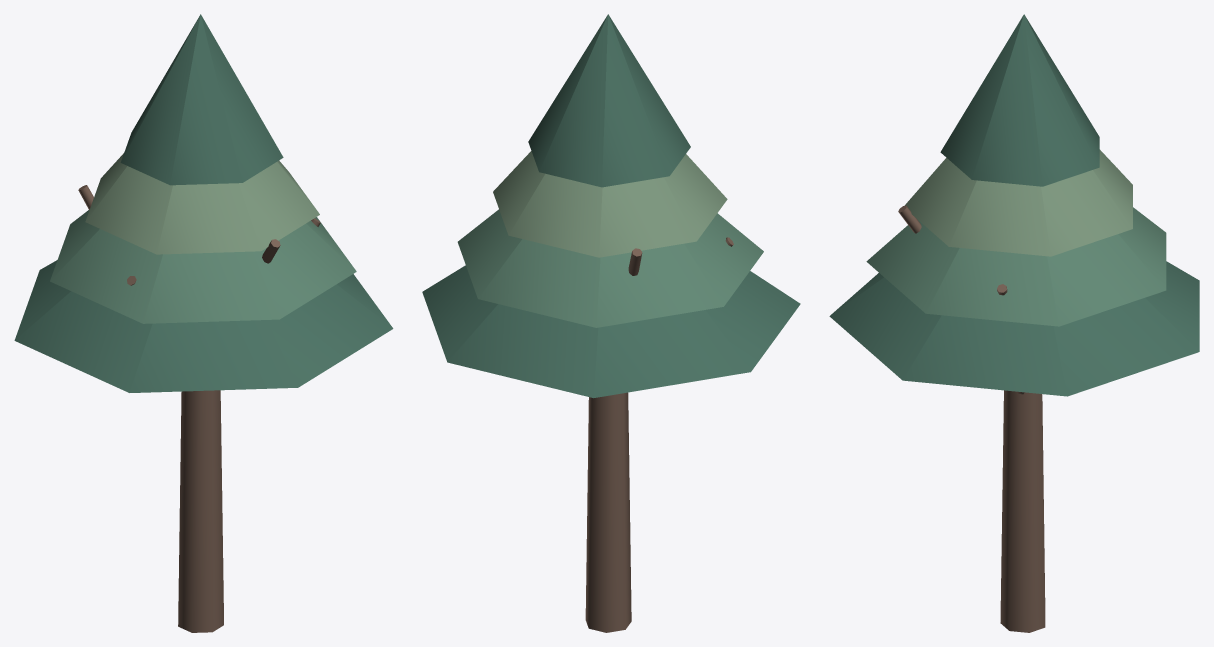
Rendered from tree-pine.glb.
3 renders of one model, left to right at view 1: azimuth 30°, elevation 25°; view 2: azimuth 150°, elevation 25°; view 3: azimuth 270°, elevation 25°, orthographic.
Visible parts, largest first — view 1: spire-6, spire-7, spire-9, spire-8, root-stem; view 2: spire-6, spire-7, spire-9, spire-8, root-stem; view 3: spire-6, spire-7, spire-9, spire-8, root-stem.
Boxes of the visible parts, box(x1,y1,x2,y2) form: spire-6: box(14, 260, 393, 392); spire-7: box(50, 210, 356, 323); spire-9: box(120, 14, 283, 185); spire-8: box(85, 153, 319, 254); root-stem: box(178, 390, 223, 632); spire-6: box(422, 265, 800, 398); spire-7: box(457, 209, 763, 327); spire-9: box(528, 14, 690, 187); spire-8: box(493, 151, 727, 257); root-stem: box(585, 392, 631, 632); spire-6: box(829, 261, 1199, 396); spire-7: box(866, 207, 1166, 326); spire-9: box(940, 14, 1099, 186); spire-8: box(905, 149, 1132, 256); root-stem: box(1000, 390, 1045, 632).
Size of the model in its own units: 5.46 by 9.66 by 5.32.
